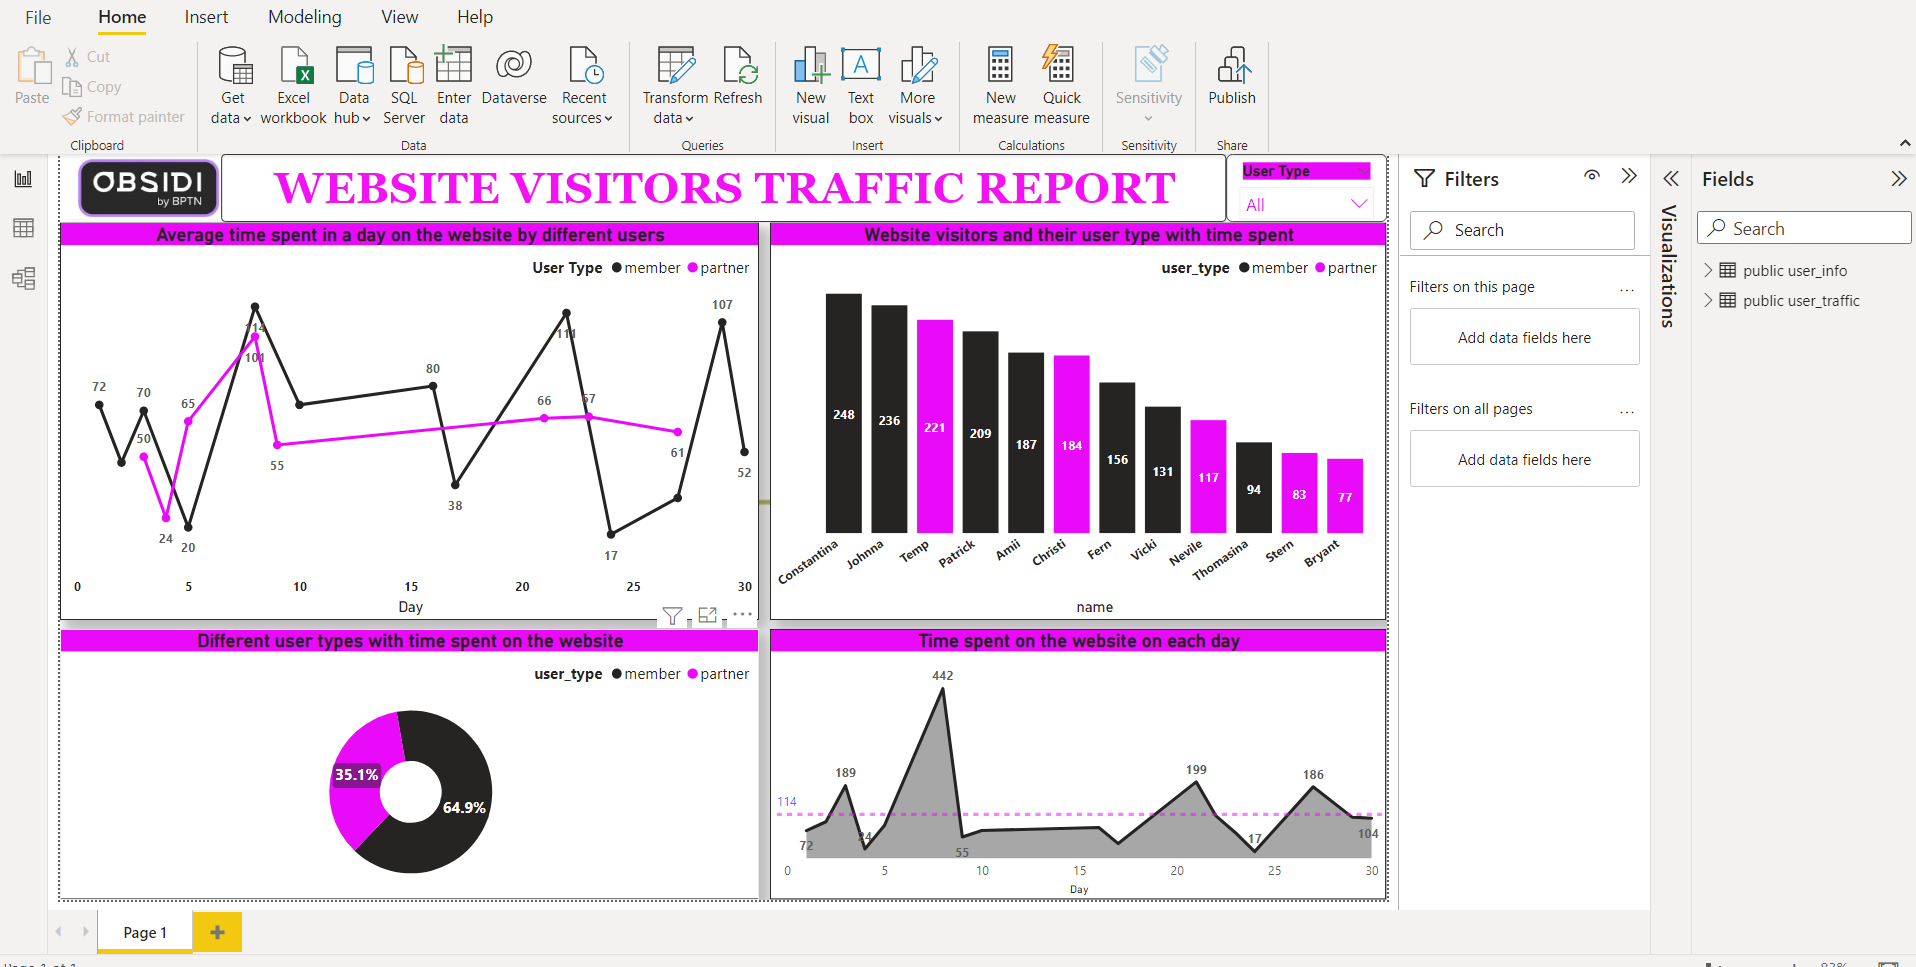

The page's visual inventory and layout, read from the dashboard file:
{"tool":"powerbi","page":{"name":"Page 1","canvas":[1280,720],"ordinal":0},"visuals":[{"type":"lineChart","title":"Average time spent in a day on the website by different users","fields":{"Category":["public user_traffic.visited_on.Variation.Date Hierarchy.Day"],"Y":["public user_traffic.Average of time_spent average per user_type"],"Series":["public user_info.user_type"]},"box":[0,65.9,674.3,383.2],"z":0},{"type":"donutChart","title":"Different user types with time spent on the website","fields":{"Category":["public user_info.user_type"],"Y":["public user_traffic.time_spent"]},"box":[0,458.7,674.3,260.9],"z":1000},{"type":"columnChart","title":"Website visitors and their user type with time spent","fields":{"Category":["public user_info.name"],"Y":["public user_traffic.time_spent"],"Series":["public user_info.user_type"]},"box":[685.3,65.9,594.7,383.2],"z":2000},{"type":"areaChart","title":"Time spent on the website on each day","fields":{"Category":["public user_traffic.visited_on.Variation.Date Hierarchy.Day"],"Y":["public user_traffic.time_spent"]},"box":[685.3,458.7,594.7,260.9],"z":3000},{"type":"slicer","fields":{"Values":["public user_info.user_type"]},"box":[1124.8,0,155.2,65.9],"z":4000},{"type":"textbox","box":[155.2,0,969.6,65.9],"z":5000},{"type":"image","box":[0,0,170.3,65.9],"z":6000}]}

Visuals, with their boxes on the page's 1280x720 design canvas (x1, y1, x2, y2). These are canvas units, not pixel positions in the 1916x967 screenshot, which may show the page scaled, cropped or inside an application window:
"Average time spent in a day on the website by different users" lineChart: <bbox>0, 66, 674, 449</bbox>
"Different user types with time spent on the website" donutChart: <bbox>0, 459, 674, 720</bbox>
"Website visitors and their user type with time spent" columnChart: <bbox>685, 66, 1280, 449</bbox>
"Time spent on the website on each day" areaChart: <bbox>685, 459, 1280, 720</bbox>
slicer - public user_info.user_type: <bbox>1125, 0, 1280, 66</bbox>
textbox: <bbox>155, 0, 1125, 66</bbox>
image: <bbox>0, 0, 170, 66</bbox>
